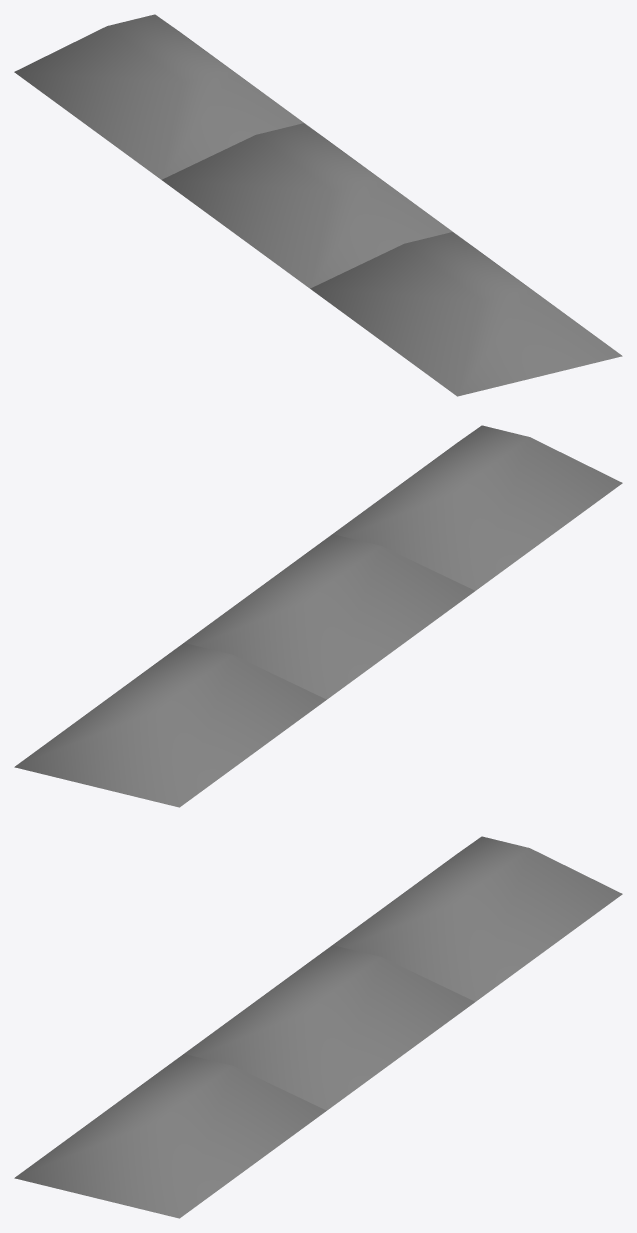
The model's file is Load_Bulk_cast_Full.glb.
The picture shows the model from 3 angles, top to bottom: view 1: azimuth 30°, elevation 25°; view 2: azimuth 150°, elevation 25°; view 3: azimuth 330°, elevation 25°; orthographic projection.
Parts seen in each view (by area): view 1: Load_Bulk_cast_Full; view 2: Load_Bulk_cast_Full; view 3: Load_Bulk_cast_Full.
Part boxes in pixels (x1,y1,x2,y2): Load_Bulk_cast_Full: (14, 14, 622, 396); Load_Bulk_cast_Full: (14, 425, 622, 807); Load_Bulk_cast_Full: (14, 836, 622, 1218).
Bounding box in the file's own units: 2.69 × 0.8805 × 12.48.
Materials: 1 (1 with a texture image).
